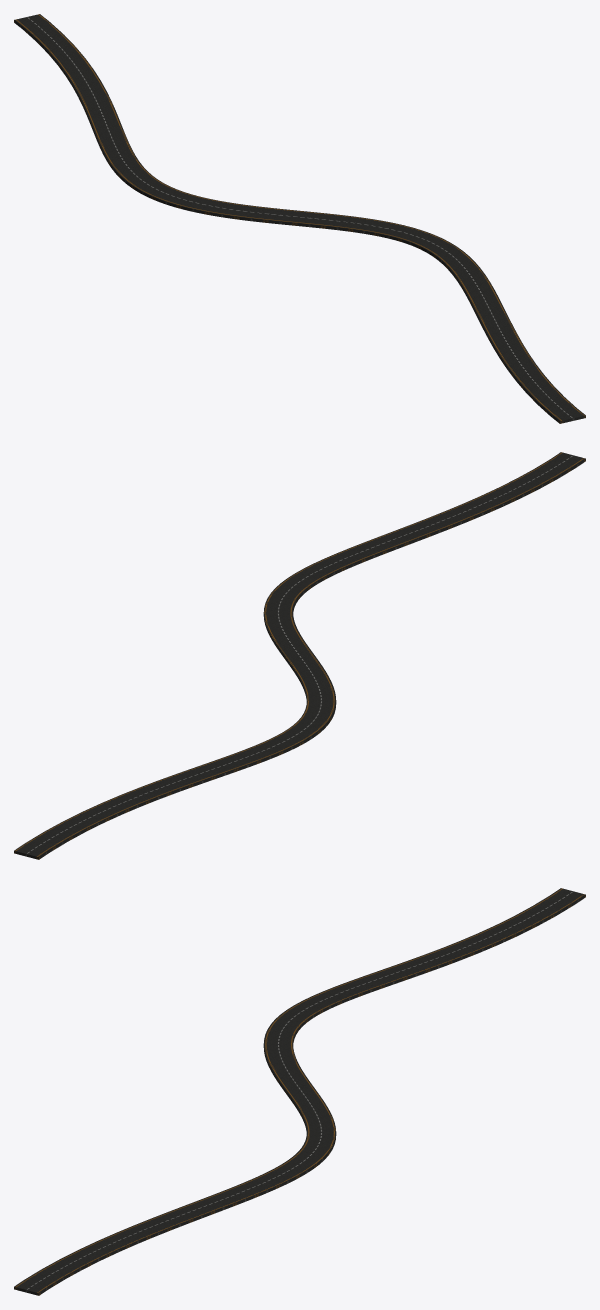
The model's file is Road1.fbx.
3 renders of one model, top to bottom at view 1: azimuth 30°, elevation 25°; view 2: azimuth 150°, elevation 25°; view 3: azimuth 330°, elevation 25°, orthographic.
Visible parts, largest first — view 1: Road; view 2: Road; view 3: Road.
Boxes of the visible parts, x1,y1,x2,y2 form: Road: (14,14,585,423); Road: (14,452,585,859); Road: (14,888,585,1295).
Size of the model in its own units: 1417 by 20 by 7423.
1 material, 1 textured.
